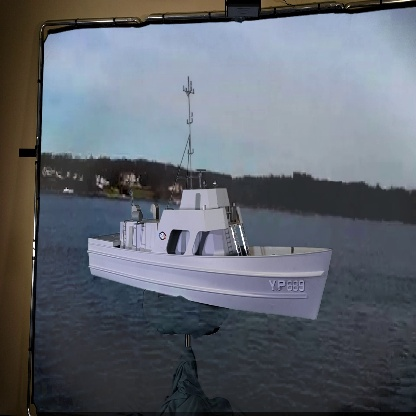YP689: (86, 73, 335, 322)
